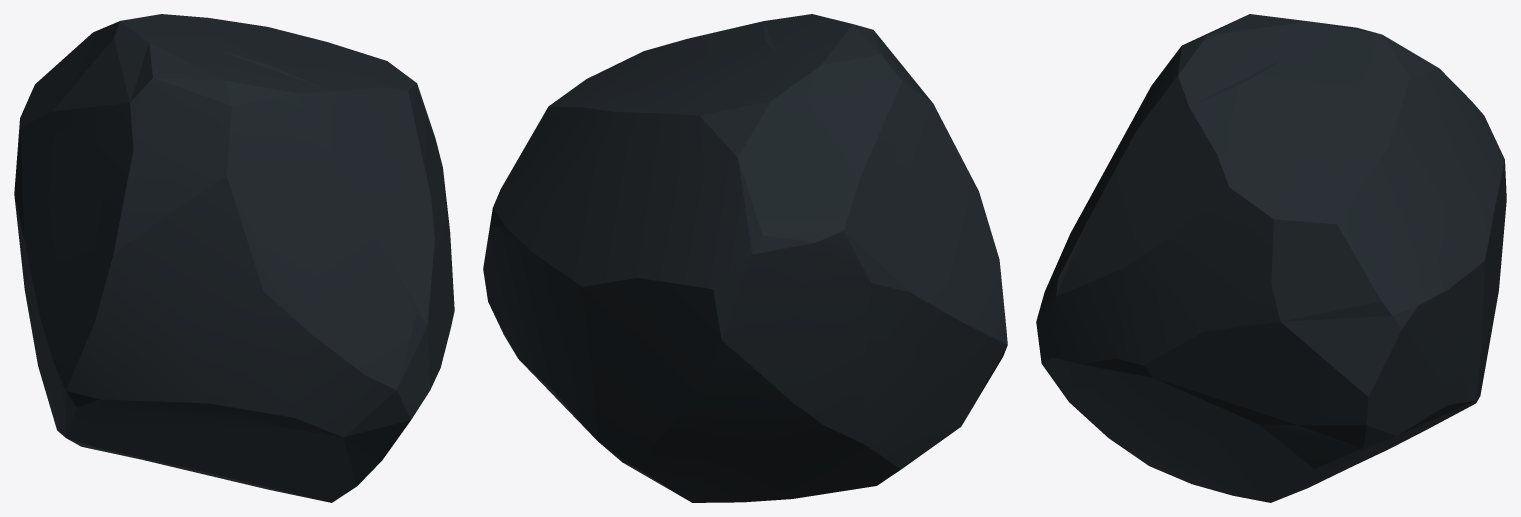
Rendered from Asteroid_s_26.FBX.
The picture shows the model from 3 angles, left to right: view 1: azimuth 30°, elevation 25°; view 2: azimuth 150°, elevation 25°; view 3: azimuth 270°, elevation 25°; orthographic projection. The views are drawn at different scales.
Visible parts, largest first — view 1: Asteroid_s_26; view 2: Asteroid_s_26; view 3: Asteroid_s_26.
Boxes of the visible parts, box(x1,y1,x2,y2) form: Asteroid_s_26: box(14, 14, 454, 502); Asteroid_s_26: box(483, 14, 1007, 502); Asteroid_s_26: box(1036, 14, 1506, 502).
Bounding box in the file's own units: 129 × 122 × 128.
